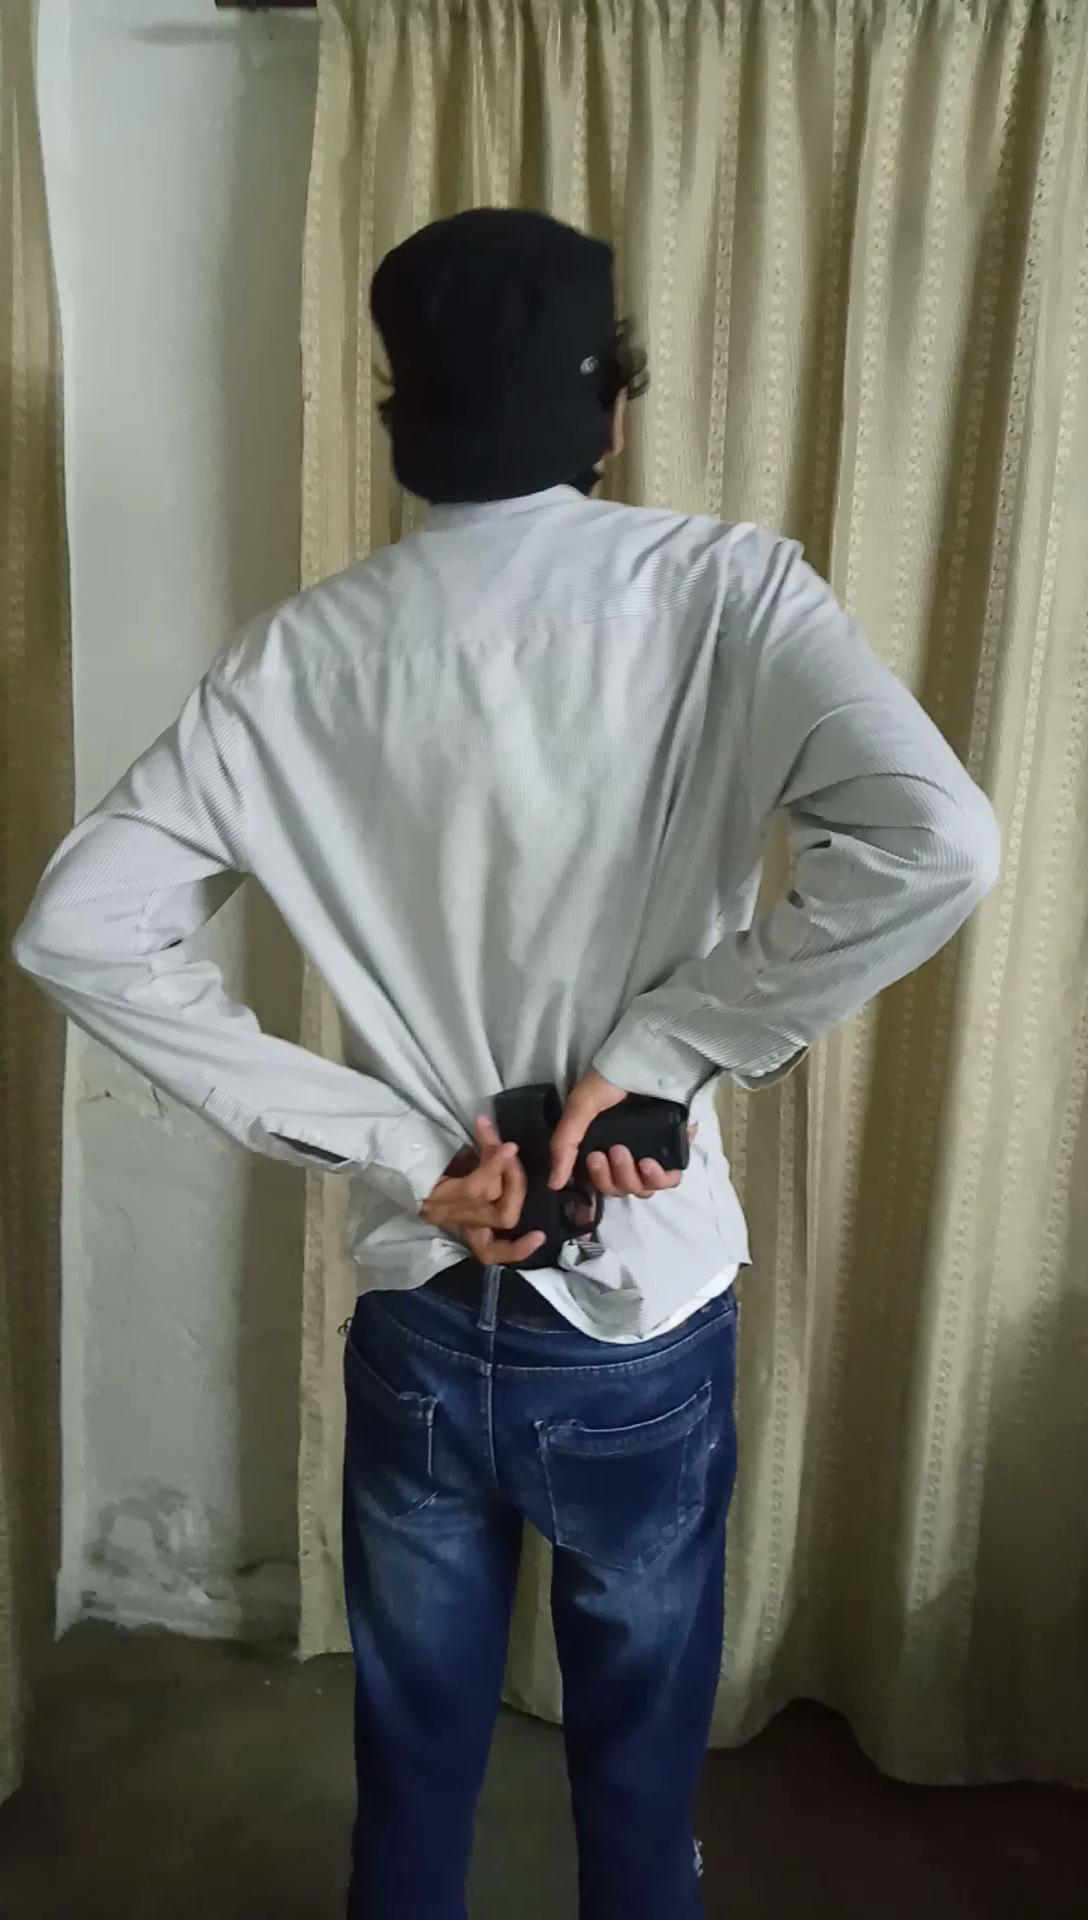weapon: (464, 1071, 711, 1273)
